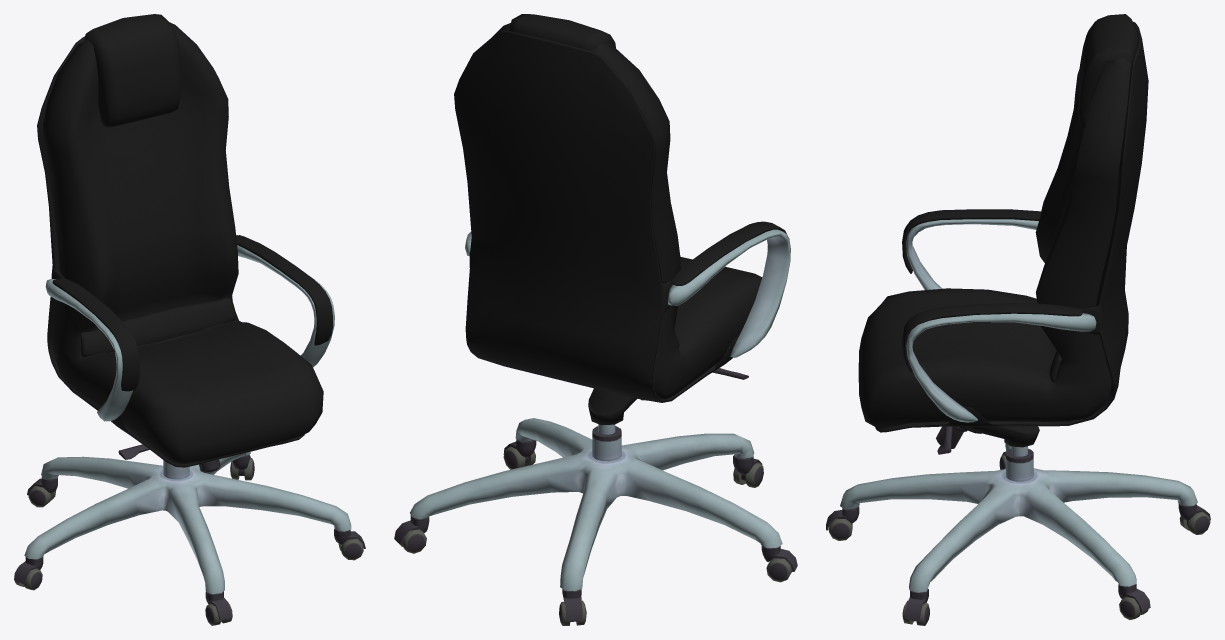
The picture shows the model from 3 angles, left to right: view 1: azimuth 30°, elevation 25°; view 2: azimuth 150°, elevation 25°; view 3: azimuth 270°, elevation 25°; orthographic projection. The views are drawn at different scales.
Visible parts, largest first — view 1: officeChair; view 2: officeChair; view 3: officeChair.
Part boxes in pixels (box(x1,y1,x2,y2)): officeChair: box(14, 14, 365, 625); officeChair: box(394, 14, 797, 625); officeChair: box(826, 14, 1210, 625).
Size of the model in its own units: 0.934 by 1.46 by 0.9636.
Materials: 1 (1 with a texture image).
